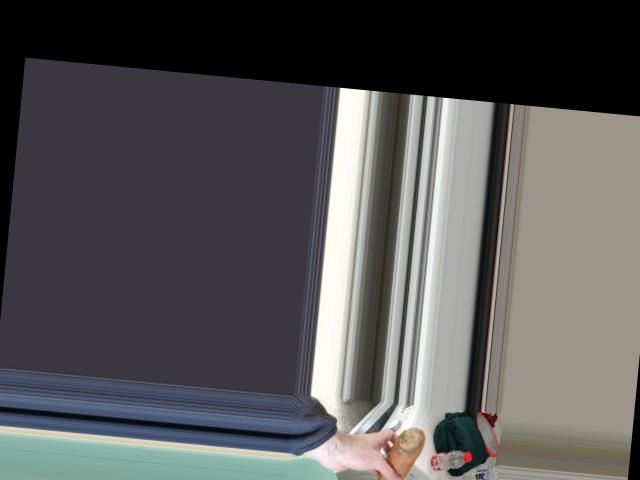sweet_potato: (369, 428, 428, 480)
